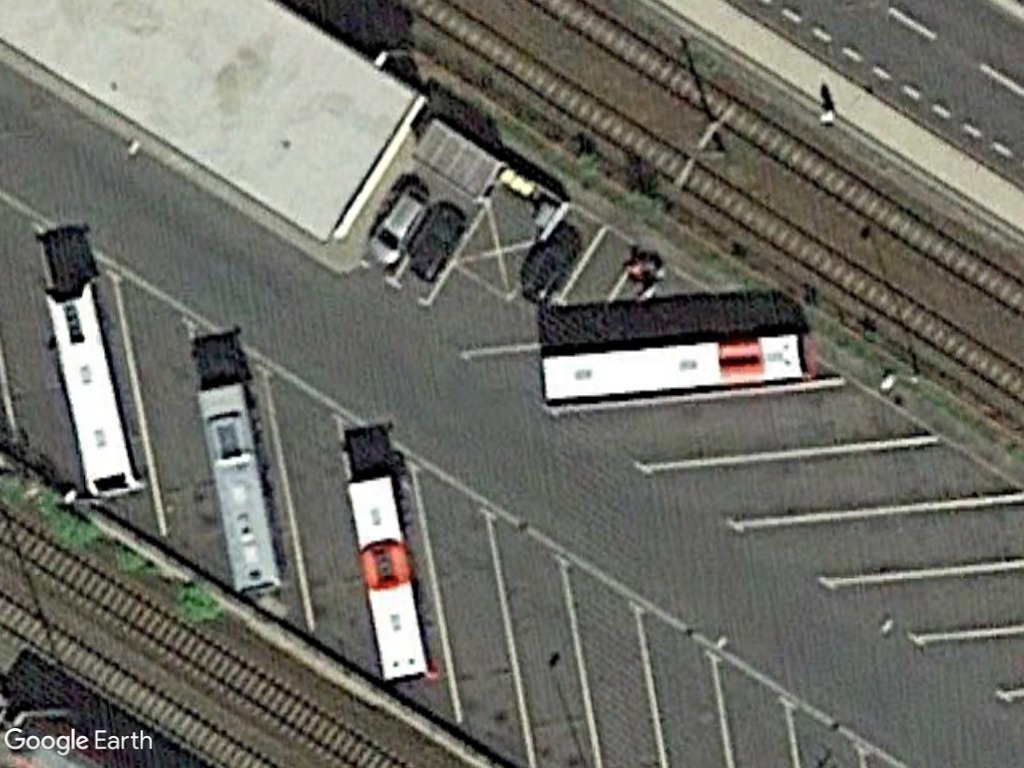bus: (35, 266, 152, 504), (533, 326, 820, 414), (189, 374, 288, 598), (337, 466, 434, 684)
car: (357, 174, 438, 270)
